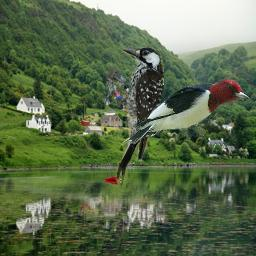Woodpecker: (119, 73, 255, 152), (106, 47, 164, 181)
